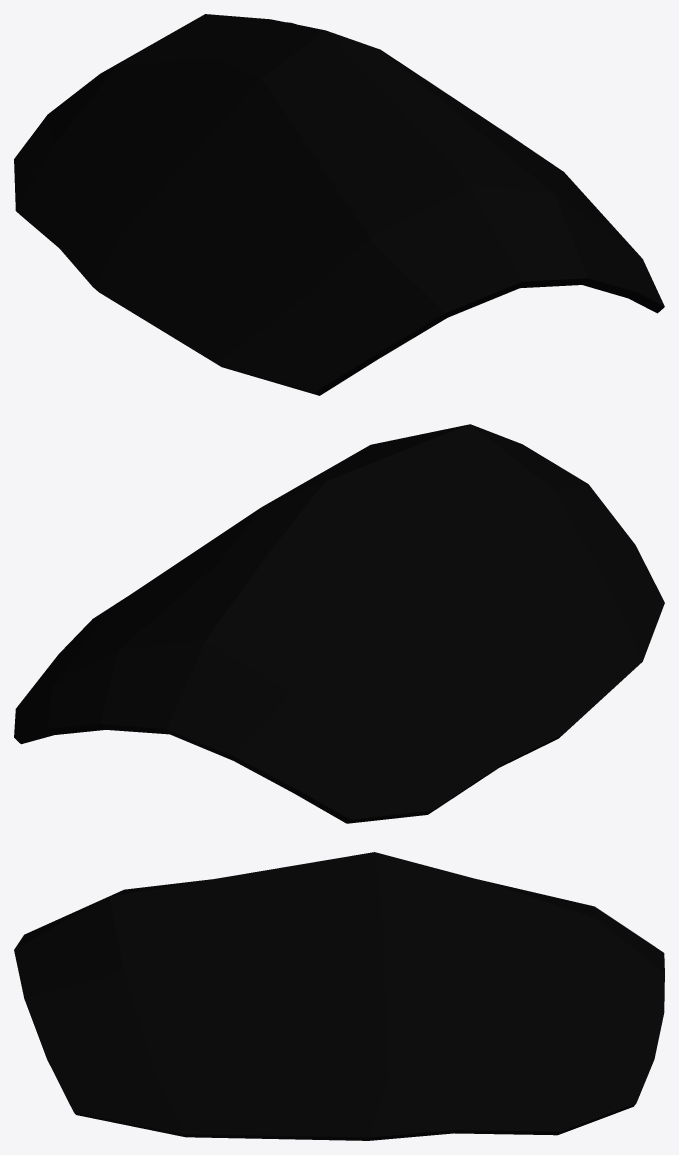
The model's file is CultistMask_Ground.fbx.
3 renders of one model, top to bottom at view 1: azimuth 30°, elevation 25°; view 2: azimuth 150°, elevation 25°; view 3: azimuth 270°, elevation 25°, orthographic. The views are drawn at different scales.
Parts seen in each view (by area): view 1: Maks blank; view 2: Maks blank; view 3: Maks blank.
Part boxes in pixels (<box>): Maks blank: <box>14,14,664,395</box>; Maks blank: <box>14,424,664,823</box>; Maks blank: <box>14,852,664,1140</box>.
Bounding box in the file's own units: 0.1075 × 0.0459 × 0.1406.
